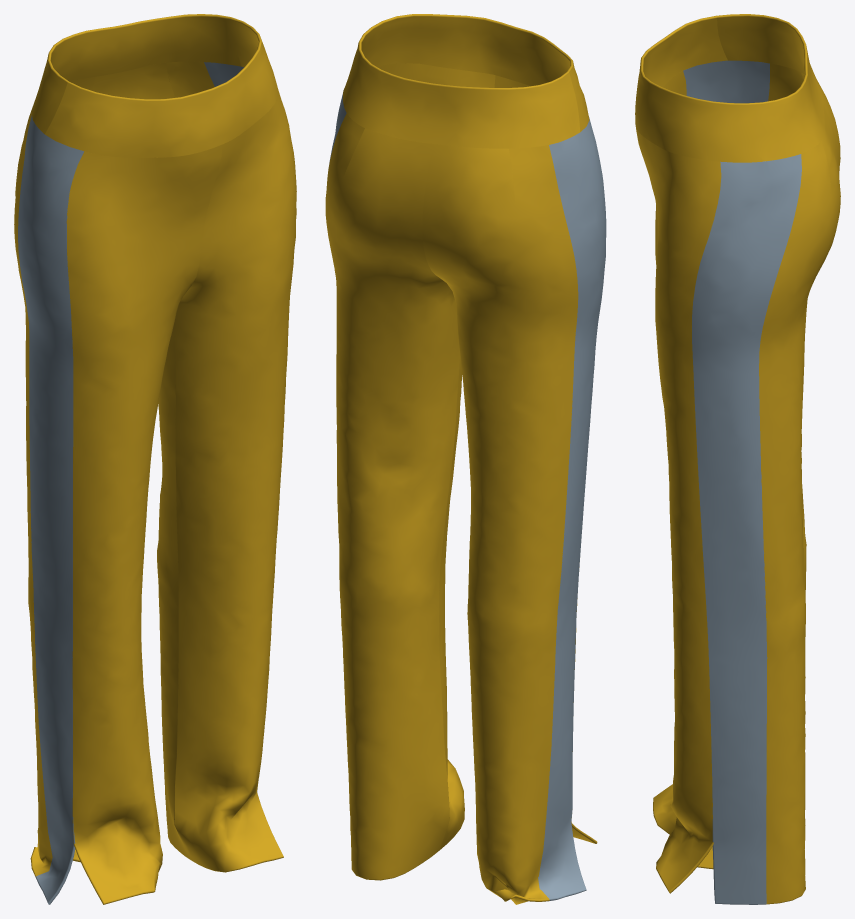
3 views of the same model, side by side, from view 1: azimuth 30°, elevation 25°; view 2: azimuth 150°, elevation 25°; view 3: azimuth 270°, elevation 25° (orthographic). The views are drawn at different scales.
Visible parts, largest first — view 1: Pattern2D_4640240, Pattern2D_4476826, Pattern2D_4640238, Pattern2D_4220494, Pattern2D_4640241, Pattern2D_4555758, Pattern2D_4640242; view 2: Pattern2D_4640241, Pattern2D_4555758, Pattern2D_4220494, Pattern2D_4640238, Pattern2D_4640240; view 3: Pattern2D_4640242, Pattern2D_4640241, Pattern2D_4640240, Pattern2D_4220494, Pattern2D_4640238, Pattern2D_4555758, Pattern2D_4476826.
Boxes of the visible parts, bbox=[...] form: Pattern2D_4640240: bbox=[173, 91, 296, 872]; Pattern2D_4476826: bbox=[66, 144, 222, 904]; Pattern2D_4640238: bbox=[18, 115, 84, 904]; Pattern2D_4220494: bbox=[32, 14, 278, 157]; Pattern2D_4640241: bbox=[92, 61, 214, 859]; Pattern2D_4555758: bbox=[14, 77, 95, 877]; Pattern2D_4640242: bbox=[204, 62, 258, 791]; Pattern2D_4640241: bbox=[325, 113, 459, 880]; Pattern2D_4555758: bbox=[422, 144, 578, 904]; Pattern2D_4220494: bbox=[343, 14, 589, 148]; Pattern2D_4640238: bbox=[538, 117, 606, 900]; Pattern2D_4640240: bbox=[378, 63, 495, 850]; Pattern2D_4640242: bbox=[692, 154, 801, 904]; Pattern2D_4640241: bbox=[759, 106, 840, 904]; Pattern2D_4640240: bbox=[636, 129, 721, 893]; Pattern2D_4220494: bbox=[635, 14, 824, 162]; Pattern2D_4640238: bbox=[683, 60, 769, 103]; Pattern2D_4555758: bbox=[768, 63, 840, 594]; Pattern2D_4476826: bbox=[635, 71, 686, 834].
Bounding box in the file's own units: 39.2 × 120 × 27.8.
